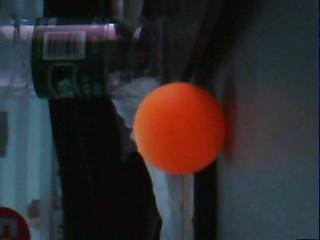oball: (132, 81, 224, 174)
